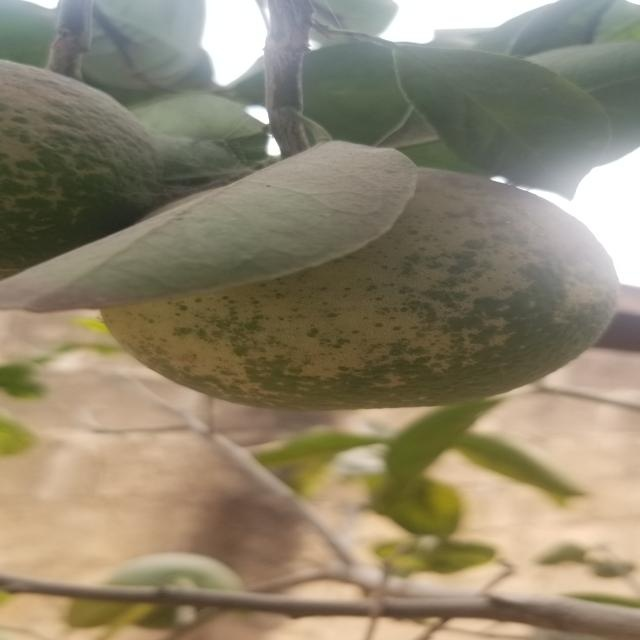agrume: (108, 162, 614, 405), (0, 65, 170, 283)
